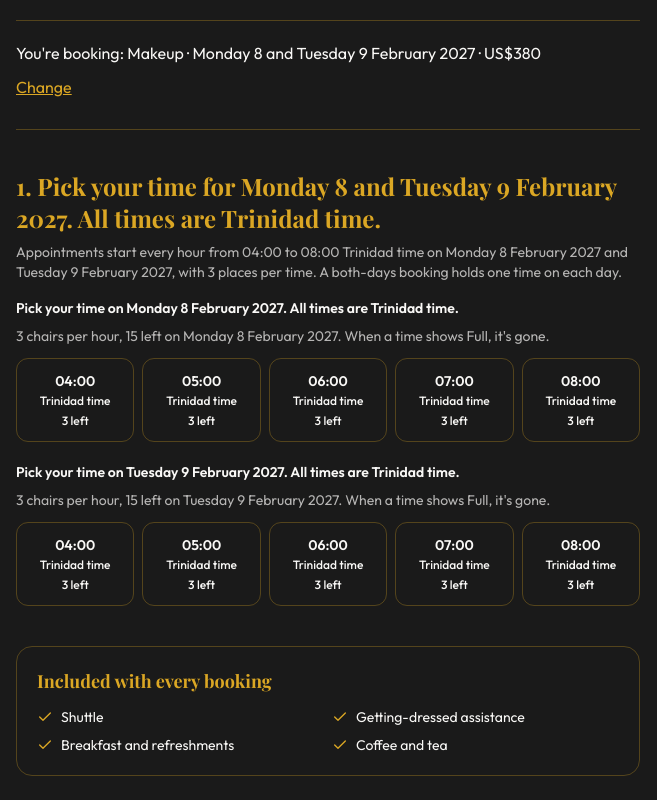
Test: package selection and Stripe hand-off › /trinidad/book/makeup/both-days-8-9-feb posts the exact product and booked slots, then reaches mocked Stripe without payment
The width and height of the screenshot is (657, 800).
Later steps or results of the test are not shown.
(page scrolled)
Step 1. Click the 1st button "04:00 Trinidad time 3 left" → (75, 400), box x1=16 y1=358 x2=134 y2=442
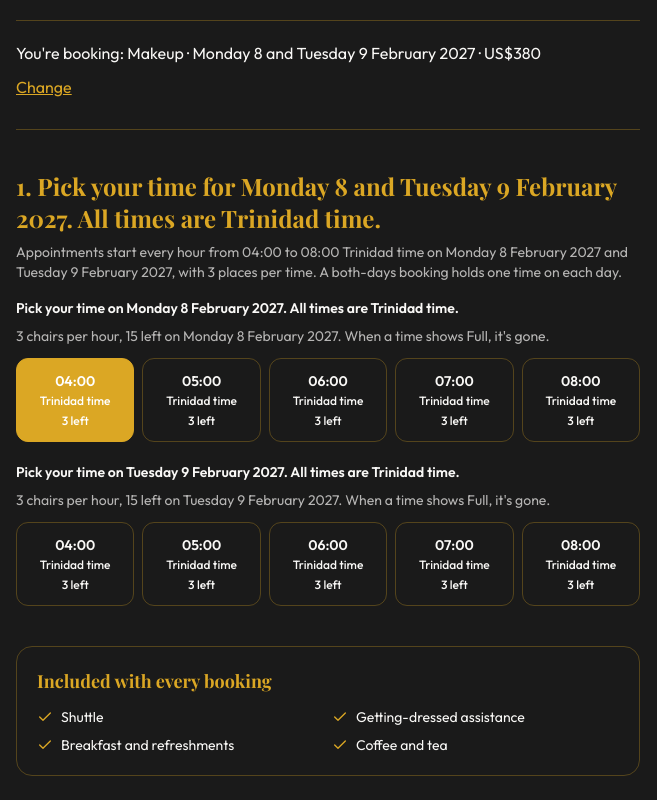
Step 2. Click the 2nd button "04:00 Trinidad time 3 left" → (75, 564), box x1=16 y1=522 x2=134 y2=606
(page scrolled)
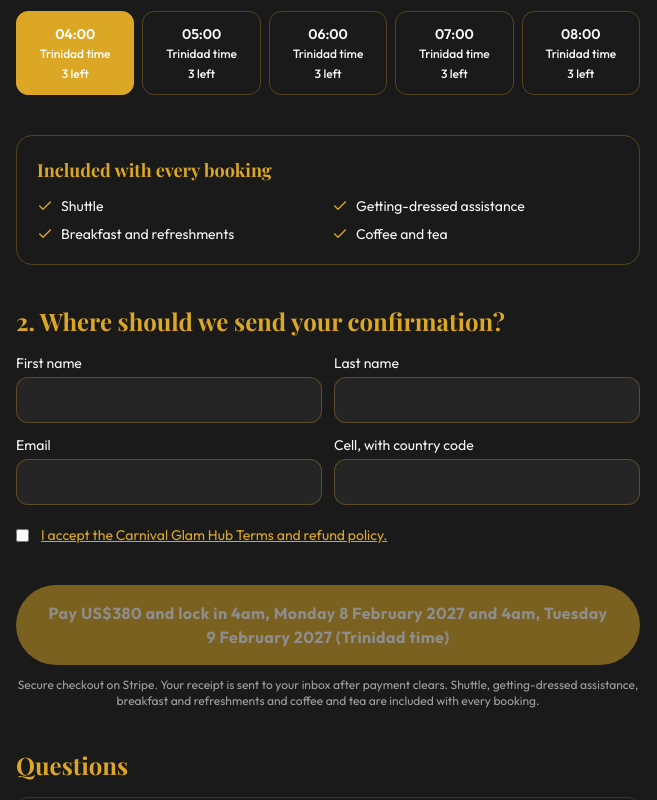
Step 3. Type "Test" into the field labelled "First name" → (169, 400), box x1=16 y1=377 x2=322 y2=423
Step 4. Type "Customer" into the field labelled "Last name" → (487, 400), box x1=334 y1=377 x2=640 y2=423
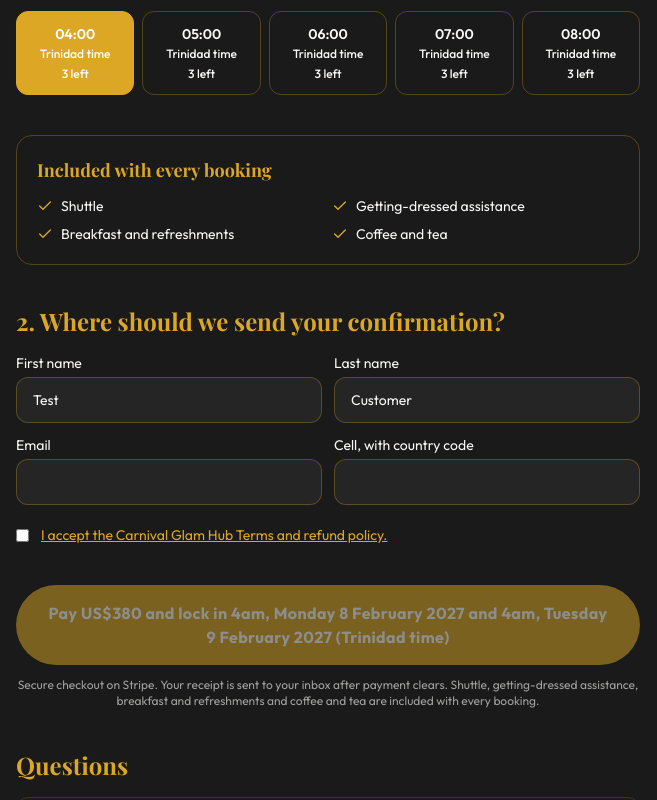
Step 5. Type "test@example.com" into the field labelled "Email" → (169, 482), box x1=16 y1=459 x2=322 y2=505
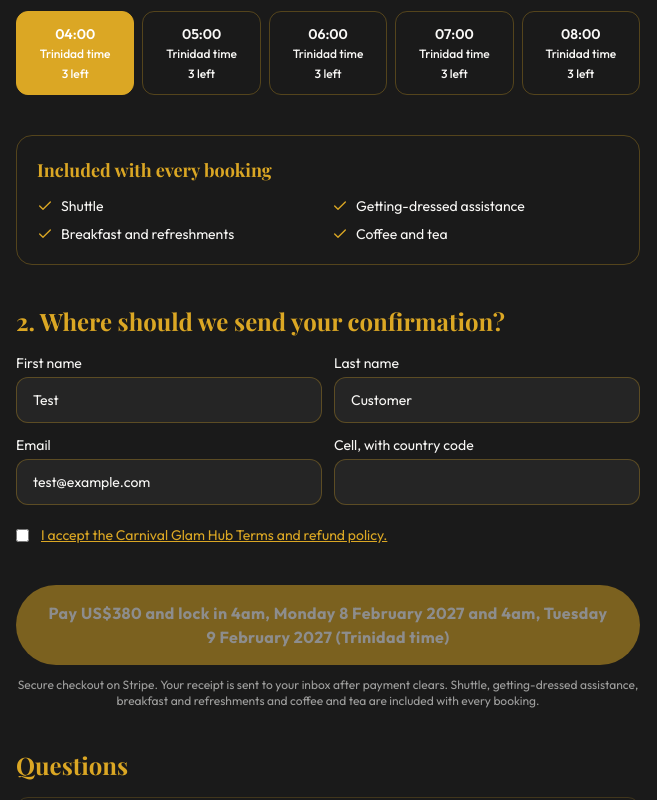
Step 6. Type "+18685550100" into the field labelled "Cell, with country code" → (487, 482), box x1=334 y1=459 x2=640 y2=505
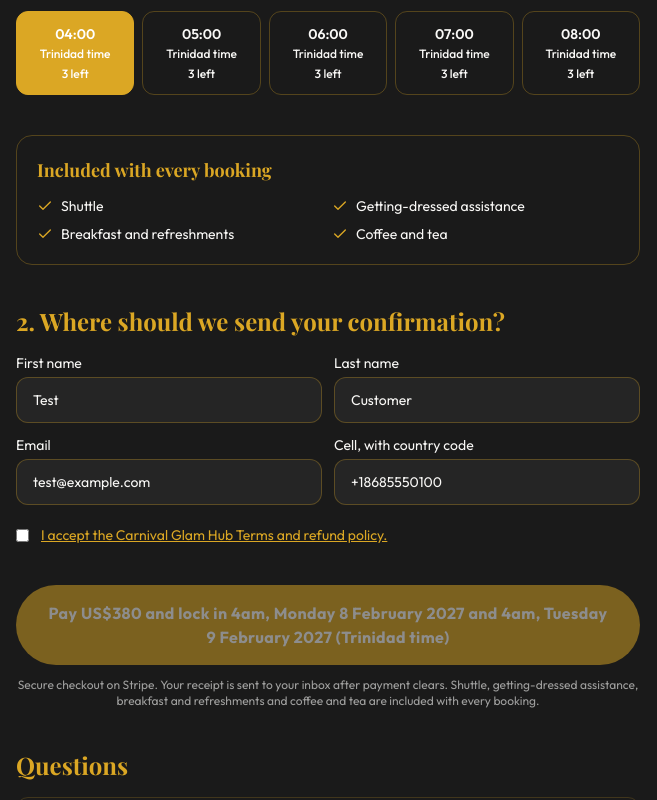
Step 7. Click the checkbox → (22, 536), box x1=16 y1=529 x2=29 y2=542
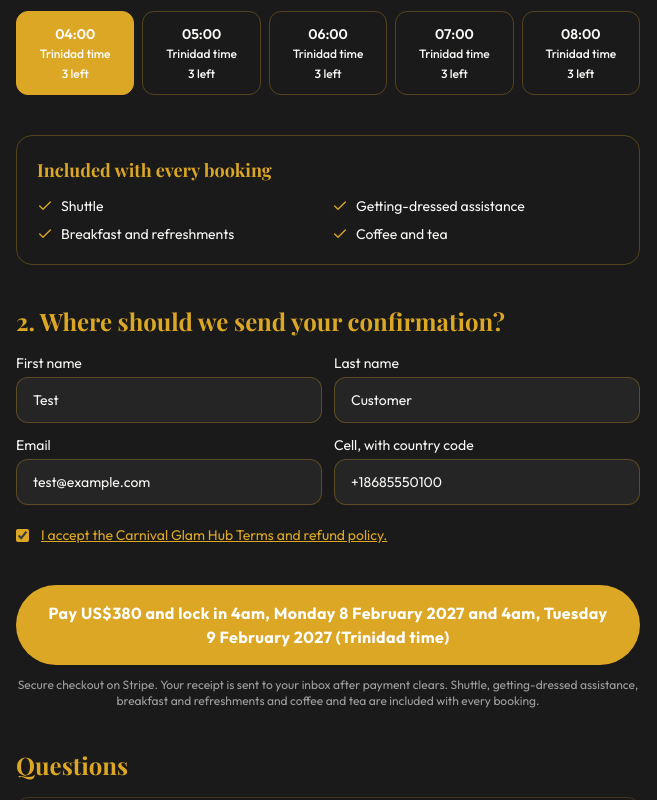
Check: the button "Pay US" is enabled, box x1=16 y1=585 x2=640 y2=665
